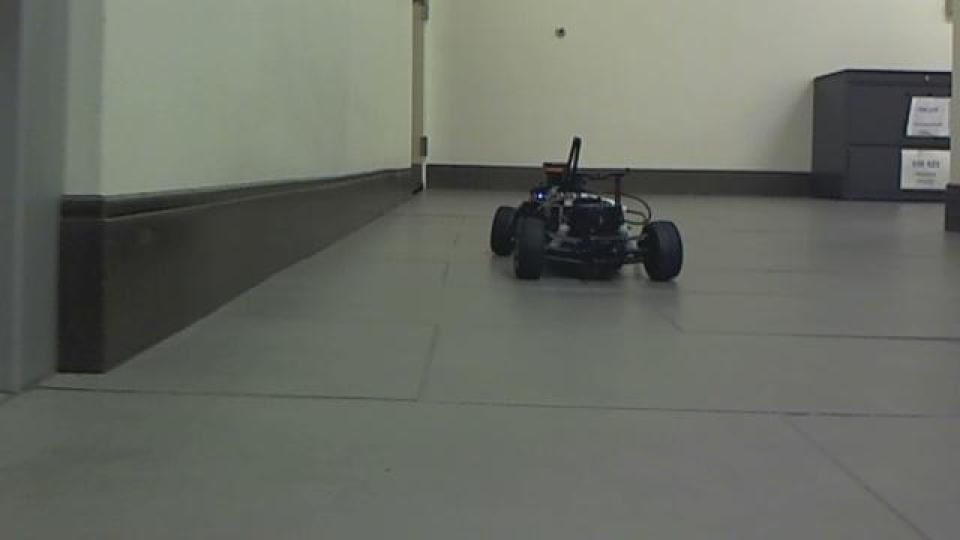car: (486, 133, 686, 285)
